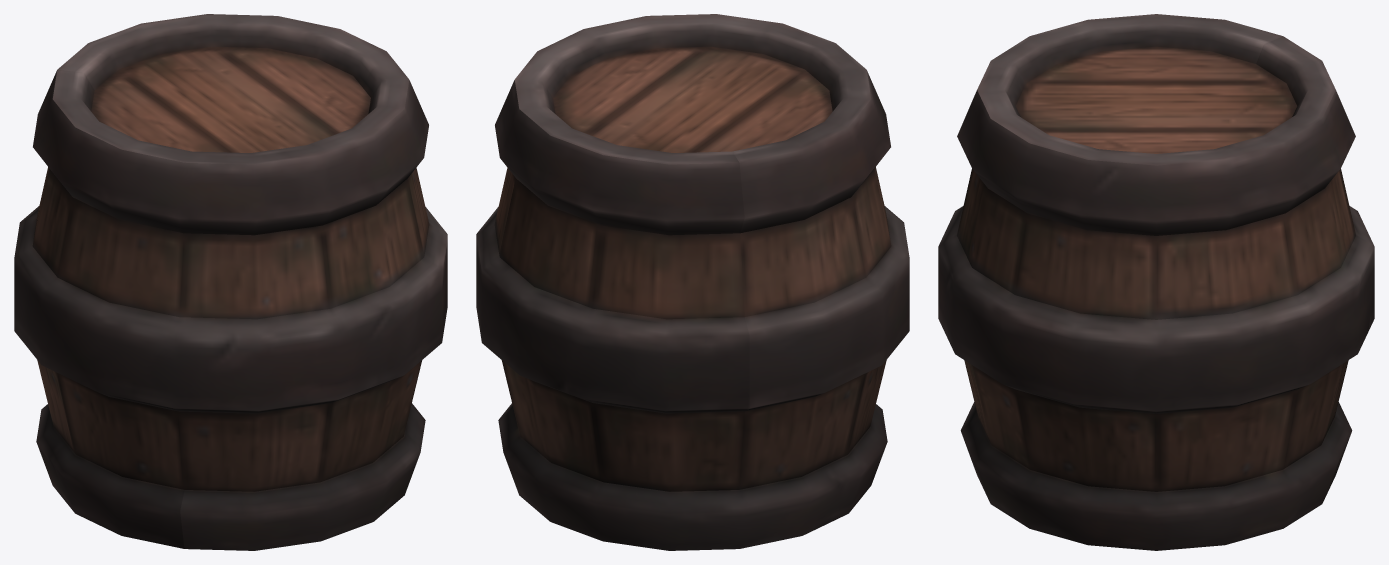
Rendered from barrel.fbx.
The picture shows the model from 3 angles, left to right: view 1: azimuth 30°, elevation 25°; view 2: azimuth 150°, elevation 25°; view 3: azimuth 270°, elevation 25°; orthographic projection.
Visible parts, largest first — view 1: UVs:_Scene:barrell; view 2: UVs:_Scene:barrell; view 3: UVs:_Scene:barrell.
Boxes of the visible parts, x1,y1,x2,y2 form: UVs:_Scene:barrell: (14, 14, 447, 550); UVs:_Scene:barrell: (476, 14, 909, 550); UVs:_Scene:barrell: (938, 14, 1374, 550).
Bounding box in the file's own units: 121 × 118 × 121.
